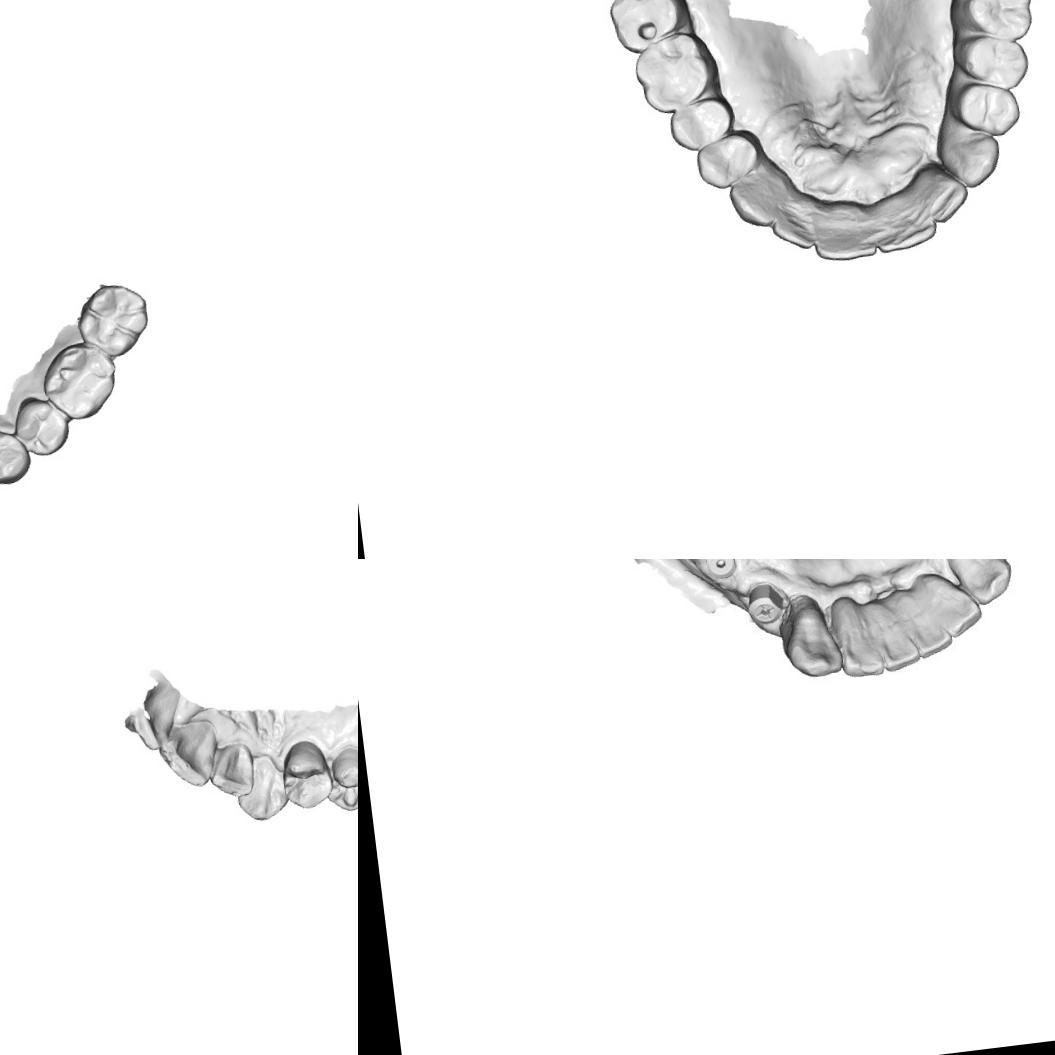canine: (780, 601, 842, 682), (934, 121, 1004, 192), (233, 752, 289, 824), (726, 170, 786, 231), (957, 559, 1014, 608)
implant: (700, 559, 740, 579)
implant_plus: (742, 584, 783, 626)
incisor: (158, 716, 225, 792), (890, 585, 954, 661), (917, 569, 982, 640), (908, 160, 973, 229), (832, 595, 886, 674), (128, 688, 188, 755), (810, 212, 880, 266), (871, 202, 940, 256), (866, 600, 918, 670), (204, 740, 259, 802), (768, 200, 820, 256)
molar: (631, 28, 725, 118), (38, 338, 122, 424), (73, 280, 153, 361), (604, 0, 698, 55), (943, 0, 1038, 49)
premolar: (947, 29, 1033, 97), (945, 75, 1023, 142), (275, 734, 336, 814), (692, 126, 766, 191), (666, 92, 741, 155), (9, 394, 75, 460), (322, 742, 358, 815), (0, 424, 33, 487)
